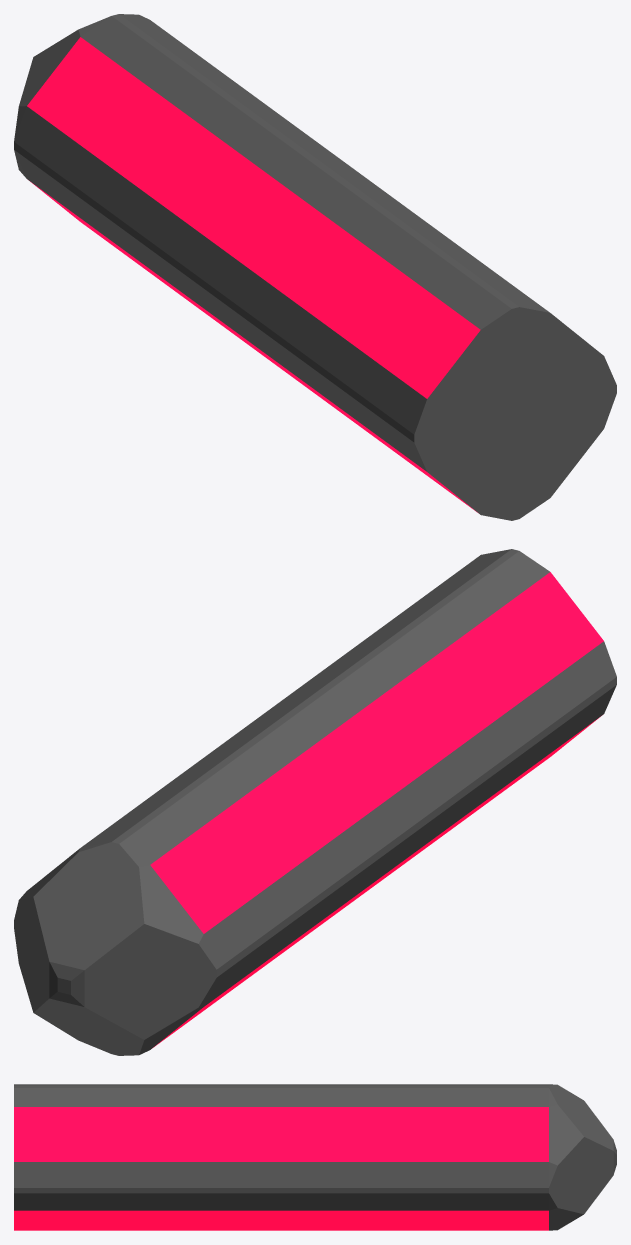
File: missile.fbx
3 views of the same model, one above another, from view 1: azimuth 30°, elevation 25°; view 2: azimuth 150°, elevation 25°; view 3: azimuth 270°, elevation 25° (orthographic). The views are drawn at different scales.
Visible parts, largest first — view 1: Cube; view 2: Cube; view 3: Cube.
Part boxes in pixels (<box>): Cube: <box>14,14,616,520</box>; Cube: <box>14,549,616,1055</box>; Cube: <box>14,1084,616,1230</box>.
Size of the model in its own units: 200 by 200 by 771.
